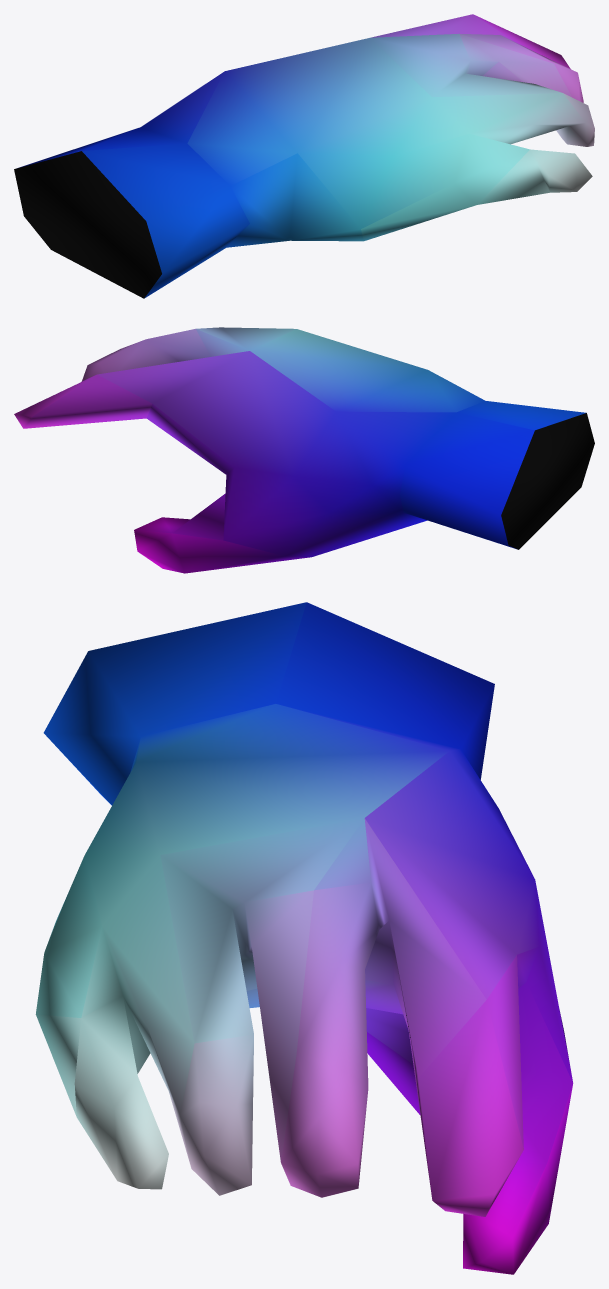
File: RightHand_LowPoly.fbx
3 renders of one model, top to bottom at view 1: azimuth 30°, elevation 25°; view 2: azimuth 150°, elevation 25°; view 3: azimuth 270°, elevation 25°, orthographic. The views are drawn at different scales.
Parts seen in each view (by area): view 1: rightHand_LowPoly; view 2: rightHand_LowPoly; view 3: rightHand_LowPoly.
Part boxes in pixels (x1=…): rightHand_LowPoly: x1=14, y1=14, x2=594, y2=298; rightHand_LowPoly: x1=14, y1=327, x2=594, y2=573; rightHand_LowPoly: x1=35, y1=602, x2=573, y2=1274.
Size of the model in its own units: 0.3472 by 0.1384 by 0.166.
